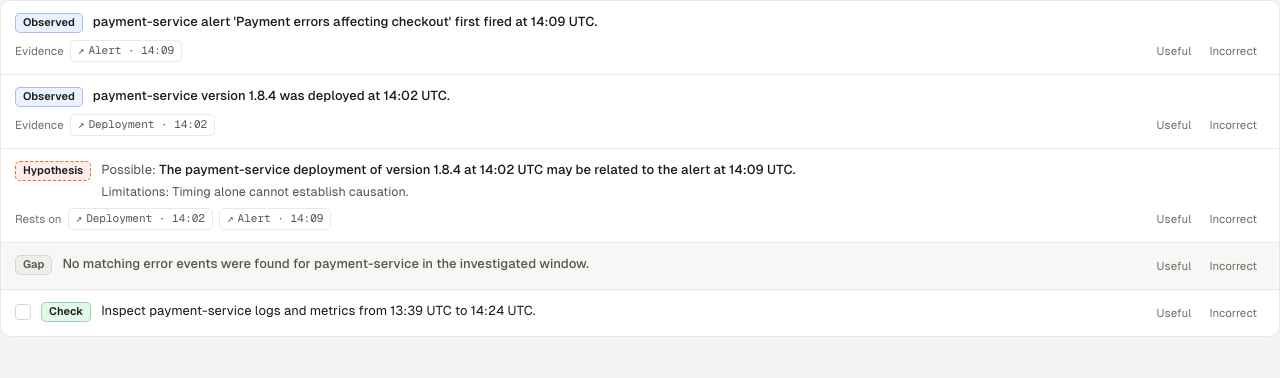
Test: Findings › feedback › notes that an incorrect finding stays visible
Click the 1st button "Incorrect". click: (1233, 51)
box: [1201,40,1265,62]
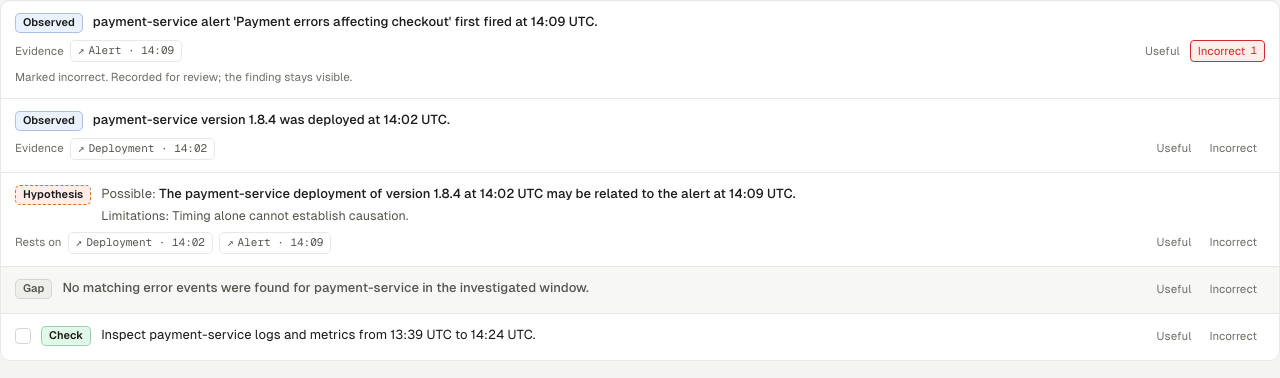
Expected: the text "first fired at 14:09" is shown, [93,14,597,29]
Expected: the text "Marked incorrect. Recorded for review; the finding stays visible." is shown, [15,70,352,84]
